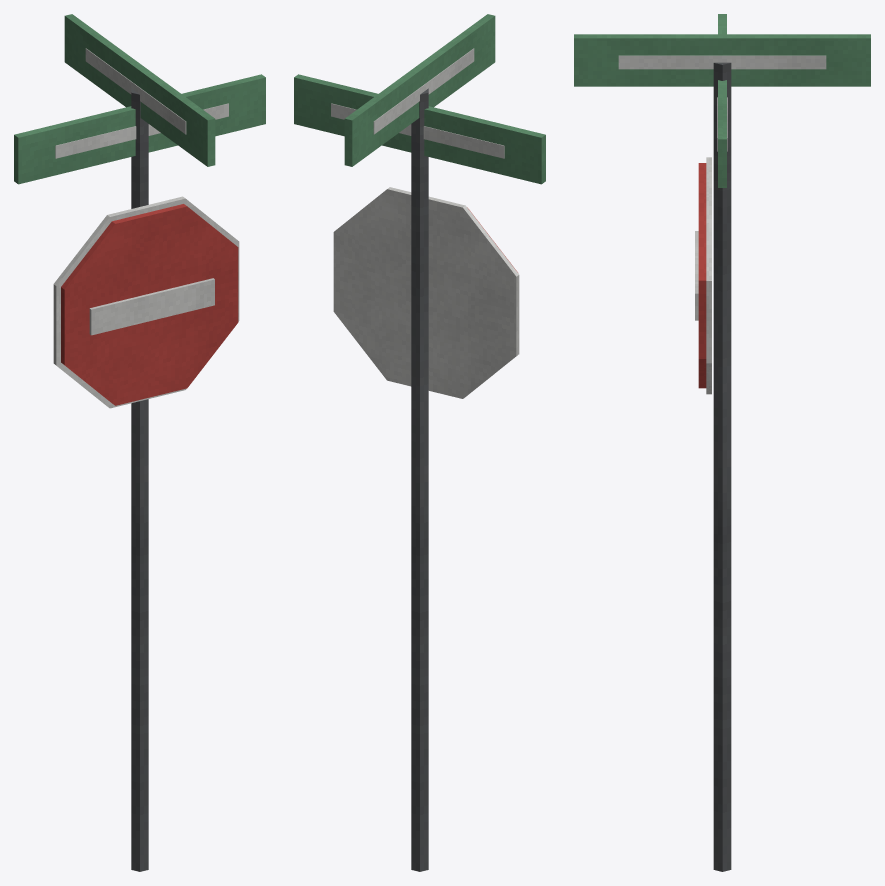
The model's file is town_street_sign.glb.
3 views of the same model, side by side, from view 1: azimuth 30°, elevation 25°; view 2: azimuth 150°, elevation 25°; view 3: azimuth 270°, elevation 25° (orthographic). The views are drawn at different scales.
Parts seen in each view (by area): view 1: detail, pole-col; view 2: detail, pole-col; view 3: detail, pole-col.
Part boxes in pixels (bbox=[...]): detail: bbox=[14, 14, 265, 408]; pole-col: bbox=[131, 88, 148, 871]; detail: bbox=[294, 14, 545, 398]; pole-col: bbox=[411, 88, 428, 871]; detail: bbox=[574, 14, 870, 394]; pole-col: bbox=[713, 62, 731, 871].
Size of the model in its own units: 1 by 3.09 by 1.
4 materials, 4 textured.
